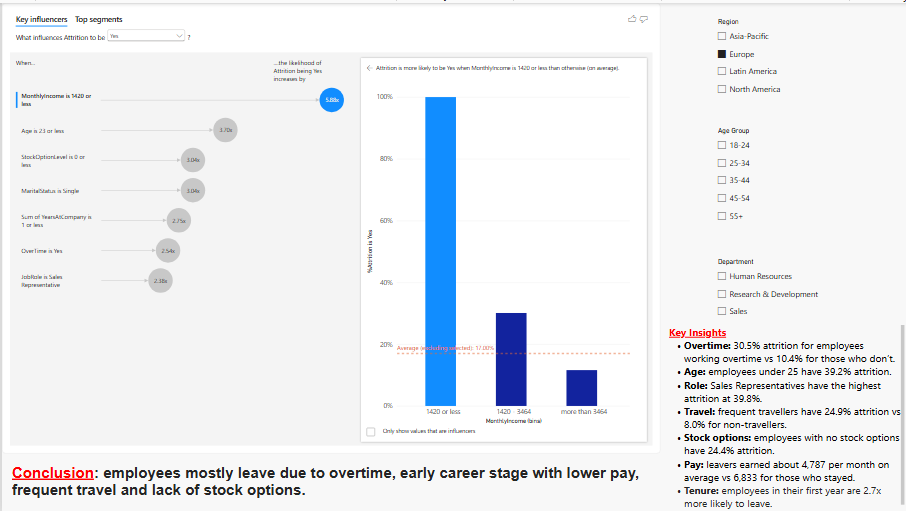

The dashboard page shown, as its layout file describes it:
{"tool":"powerbi","page":{"name":"Root Cause","canvas":[1920,1080],"ordinal":1},"visuals":[{"type":"keyDriversVisual","fields":{"ExplainBy":["HR.JobRole","HR.OverTime","HR.MaritalStatus","HR.BusinessTravel","HR.MonthlyIncome","HR.JobSatisfaction","HR.StockOptionLevel","Sum(HR.YearsAtCompany)","HR.Age"],"Target":["HR.Attrition"]},"box":[0,0,1400.4,957.7],"z":0},{"type":"slicer","fields":{"Values":["HR.Region"]},"box":[1513.7,31.9,359.3,193.5],"z":1},{"type":"slicer","fields":{"Values":["HR.Age Group"]},"box":[1513.7,263.6,359.3,227.5],"z":2},{"type":"slicer","fields":{"Values":["HR.Department"]},"box":[1513.7,542.1,359.3,142.4],"z":3},{"type":"textbox","box":[1419,685,501,396.1],"z":4},{"type":"textbox","box":[21.3,980.1,1396.8,78.7],"z":5}]}

Visuals, with their boxes in screenshot pixels (x1, y1, x2, y2), scaled from the page's 1920x1080 canvas onto the 906x511 screenshot:
keyDriversVisual - HR.JobRole x HR.OverTime: (left=0, top=0, right=661, bottom=453)
slicer - HR.Region: (left=714, top=15, right=884, bottom=107)
slicer - HR.Age Group: (left=714, top=125, right=884, bottom=232)
slicer - HR.Department: (left=714, top=256, right=884, bottom=324)
textbox: (left=670, top=324, right=905, bottom=510)
textbox: (left=10, top=464, right=669, bottom=501)
